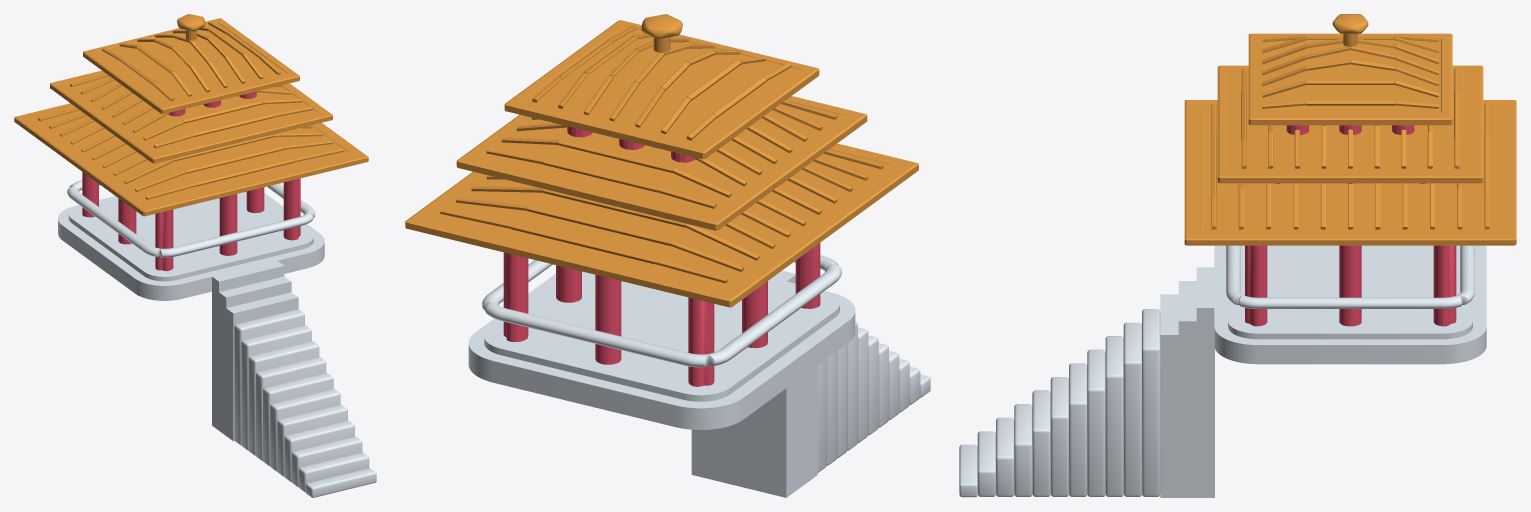
3 renders of one model, left to right at view 1: azimuth 30°, elevation 25°; view 2: azimuth 150°, elevation 25°; view 3: azimuth 270°, elevation 25°, orthographic. The views are drawn at different scales.
Visible parts, largest first — view 1: Wanchunting_Eave_T1, Wanchunting_Eave_T2, Wanchunting_Eave_T3, Wanchunting_Platform_Cap, Wanchunting_Platform, Wanchunting_Roof_T1__RoofTileRelief, Wanchunting_Roof_T3__RoofTileRelief, Wanchunting_Roof_T2__RoofTileRelief, Wanchunting_Hill_Stair_02, Wanchunting_Hill_Stair_01, Wanchunting_Hill_Stair_00, Wanchunting_Hill_Stair_03 (+18 smaller); view 2: Wanchunting_Eave_T1, Wanchunting_Eave_T2, Wanchunting_Eave_T3, Wanchunting_Platform_Cap, Wanchunting_Platform, Wanchunting_Hill_Stair_00, Wanchunting_Roof_T1__RoofTileRelief, Wanchunting_Roof_T3__RoofTileRelief, Wanchunting_Roof_T2__RoofTileRelief, Wanchunting_Rail_FrontBack_1, Wanchunting_Rail_LeftRight_-1, Wanchunting_Column_T1_07 (+17 smaller); view 3: Wanchunting_Eave_T1, Wanchunting_Eave_T2, Wanchunting_Platform_Cap, Wanchunting_Eave_T3, Wanchunting_Platform, Wanchunting_Roof_T3__RoofTileRelief, Wanchunting_Hill_Stair_00, Wanchunting_Hill_Stair_01, Wanchunting_Roof_T1__RoofTileRelief, Wanchunting_Hill_Stair_02, Wanchunting_Hill_Stair_03, Wanchunting_Hill_Stair_04 (+17 smaller).
Boxes of the visible parts, x1,y1,x2,y2 form: Wanchunting_Eave_T1: [14, 103, 368, 216]; Wanchunting_Eave_T2: [50, 70, 332, 163]; Wanchunting_Eave_T3: [83, 18, 299, 114]; Wanchunting_Platform_Cap: [68, 191, 313, 281]; Wanchunting_Platform: [58, 193, 324, 300]; Wanchunting_Roof_T1__RoofTileRelief: [38, 108, 344, 199]; Wanchunting_Roof_T3__RoofTileRelief: [101, 22, 280, 101]; Wanchunting_Roof_T2__RoofTileRelief: [70, 73, 312, 148]; Wanchunting_Hill_Stair_02: [226, 292, 298, 441]; Wanchunting_Hill_Stair_01: [219, 276, 291, 435]; Wanchunting_Hill_Stair_00: [212, 260, 284, 430]; Wanchunting_Hill_Stair_03: [234, 309, 304, 445]; Wanchunting_Eave_T1: [405, 143, 918, 307]; Wanchunting_Eave_T2: [456, 96, 867, 230]; Wanchunting_Eave_T3: [504, 20, 819, 159]; Wanchunting_Platform_Cap: [484, 271, 839, 401]; Wanchunting_Platform: [468, 273, 855, 429]; Wanchunting_Hill_Stair_00: [691, 270, 796, 497]; Wanchunting_Roof_T1__RoofTileRelief: [440, 150, 883, 283]; Wanchunting_Roof_T3__RoofTileRelief: [532, 25, 791, 140]; Wanchunting_Roof_T2__RoofTileRelief: [486, 100, 837, 208]; Wanchunting_Rail_FrontBack_1: [485, 302, 708, 367]; Wanchunting_Rail_LeftRight_-1: [707, 263, 841, 366]; Wanchunting_Column_T1_07: [688, 297, 714, 386]; Wanchunting_Eave_T1: [1184, 100, 1516, 245]; Wanchunting_Eave_T2: [1217, 65, 1483, 183]; Wanchunting_Platform_Cap: [1228, 245, 1472, 339]; Wanchunting_Eave_T3: [1248, 33, 1452, 125]; Wanchunting_Platform: [1214, 245, 1486, 364]; Wanchunting_Roof_T3__RoofTileRelief: [1261, 34, 1439, 108]; Wanchunting_Hill_Stair_00: [1196, 267, 1214, 497]; Wanchunting_Hill_Stair_01: [1178, 281, 1196, 497]; Wanchunting_Roof_T1__RoofTileRelief: [1211, 104, 1489, 229]; Wanchunting_Hill_Stair_02: [1160, 294, 1178, 497]; Wanchunting_Hill_Stair_03: [1142, 309, 1160, 496]; Wanchunting_Hill_Stair_04: [1123, 322, 1141, 496].
Size of the model in its own units: 1.23 by 1.88 by 2.06.
